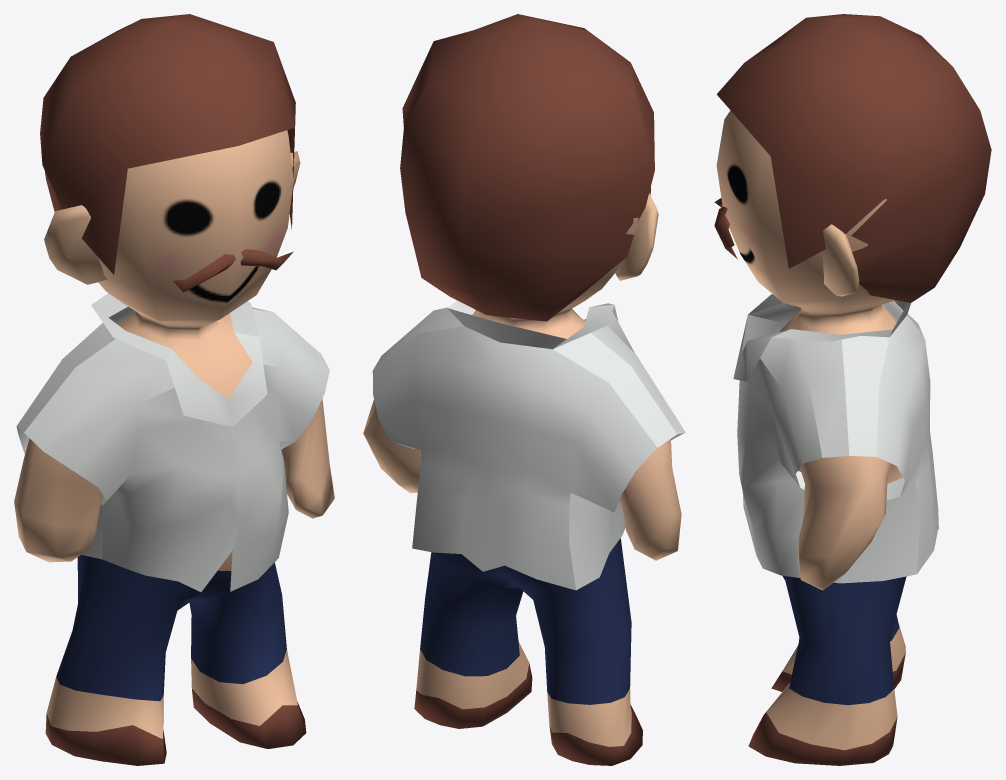
The model's file is Hombre_Poco_Animalista.fbx.
The picture shows the model from 3 angles, left to right: view 1: azimuth 30°, elevation 25°; view 2: azimuth 150°, elevation 25°; view 3: azimuth 270°, elevation 25°; orthographic projection.
Parts seen in each view (by area): view 1: Cube.010; view 2: Cube.010; view 3: Cube.010.
Boxes of the visible parts, <box> form: Cube.010: <box>14,14,334,765</box>; Cube.010: <box>363,14,685,765</box>; Cube.010: <box>714,14,991,765</box>.
Bounding box in the file's own units: 93.93 × 205 × 73.95.
